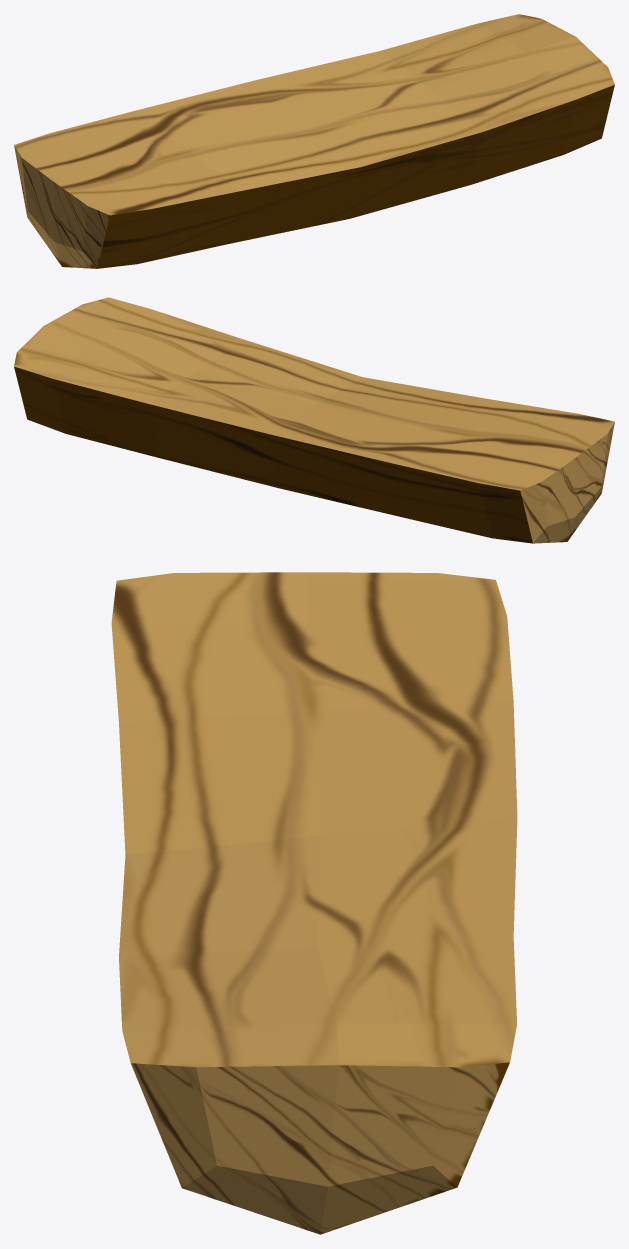
File: coisa para a fogueira.fbx_tora_4.fbx
3 renders of one model, top to bottom at view 1: azimuth 30°, elevation 25°; view 2: azimuth 150°, elevation 25°; view 3: azimuth 270°, elevation 25°, orthographic. The views are drawn at different scales.
Visible parts, largest first — view 1: tora 04; view 2: tora 04; view 3: tora 04.
Part boxes in pixels (x1=…): tora 04: x1=14, y1=14, x2=614, y2=268; tora 04: x1=14, y1=297, x2=614, y2=543; tora 04: x1=111, y1=572, x2=517, y2=1234.
Bounding box in the file's own units: 561 × 107 × 188.
